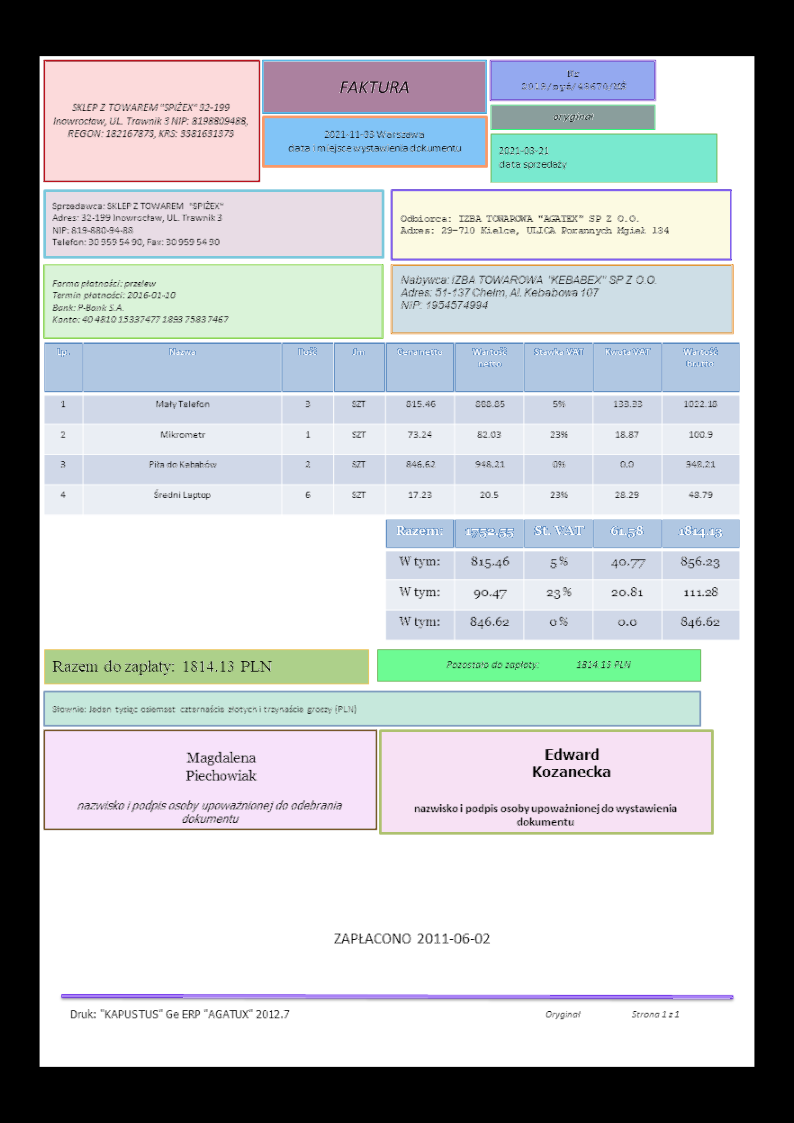Table: (41, 340, 742, 516), (384, 520, 743, 643)
TextBox: (395, 269, 662, 314), (49, 275, 231, 330), (49, 197, 225, 250), (410, 798, 681, 831), (49, 99, 252, 143), (397, 209, 673, 241), (73, 796, 347, 826), (47, 696, 361, 719), (284, 125, 464, 155), (47, 654, 272, 678), (64, 1004, 293, 1026), (330, 925, 497, 953), (443, 654, 636, 674), (529, 740, 614, 784), (518, 66, 630, 97), (182, 747, 259, 787), (494, 140, 569, 176), (541, 1004, 682, 1022), (336, 75, 410, 98), (550, 110, 597, 125)
